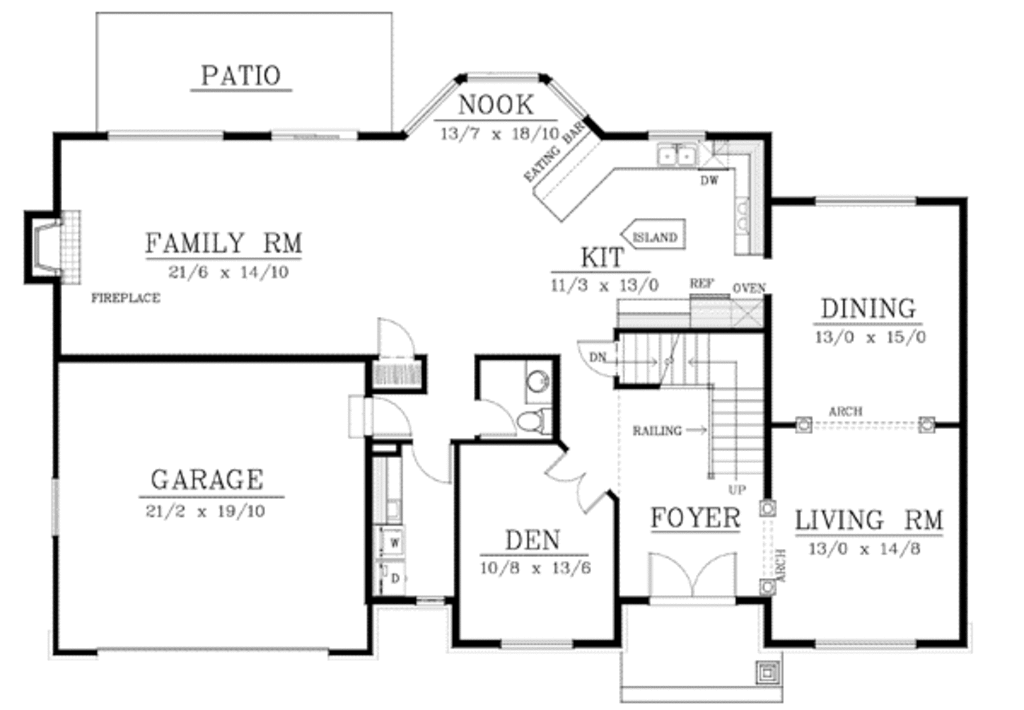door: (646, 543, 743, 612), (546, 444, 613, 519), (342, 390, 411, 443), (370, 310, 423, 362), (407, 438, 458, 489), (572, 329, 619, 380), (478, 395, 519, 441)
large_sink: (518, 401, 557, 437)
small_sink: (525, 360, 554, 403)
stairs: (617, 330, 769, 490)
twin_sink: (651, 139, 706, 171)
window: (405, 74, 464, 144), (103, 125, 226, 149), (543, 74, 590, 125), (497, 630, 576, 656), (265, 123, 361, 144), (811, 635, 917, 653), (818, 195, 923, 206), (46, 474, 63, 539)
